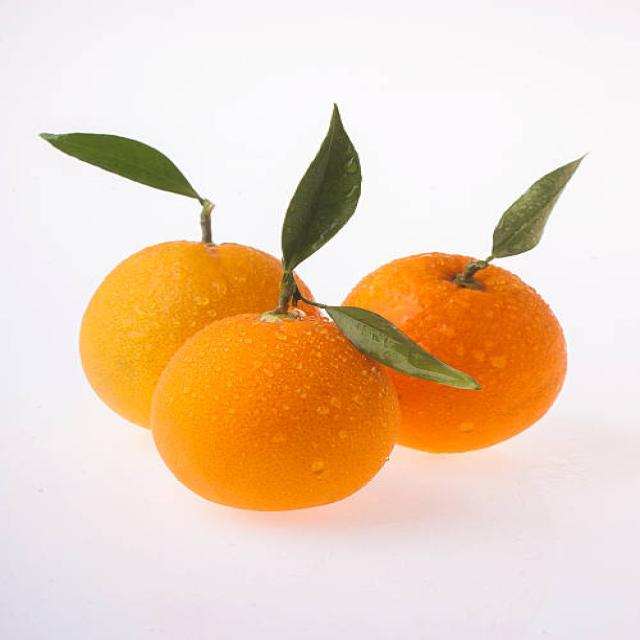Ripe: (150, 308, 403, 512), (346, 248, 572, 453), (74, 239, 300, 422)
